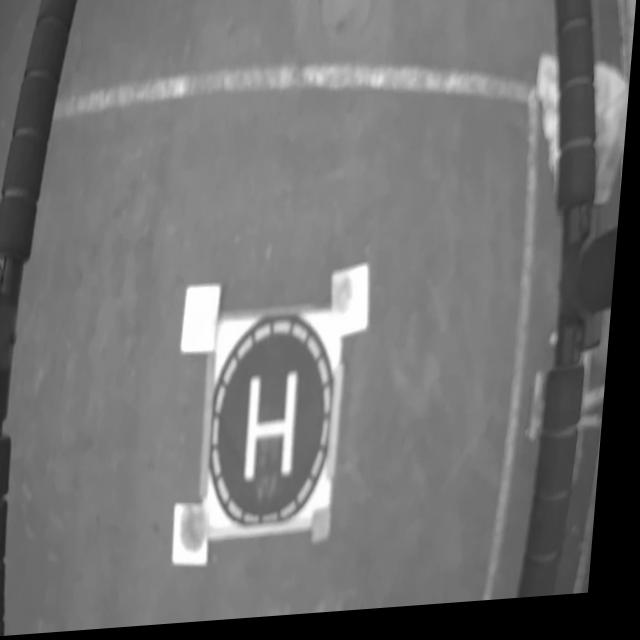Helipad: (253, 380, 304, 486)
